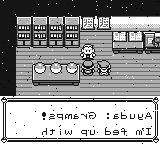leer: (113, 32, 143, 53), (82, 16, 111, 31), (144, 33, 160, 53)
main: (81, 60, 95, 76)
no-caminable: (1, 0, 160, 97), (17, 17, 79, 48), (32, 63, 79, 86), (112, 17, 160, 32)
npc: (80, 45, 96, 61), (97, 61, 112, 76)
poke-ball: (66, 62, 78, 74), (50, 62, 62, 74), (34, 62, 46, 74)
texto: (1, 96, 160, 143)
